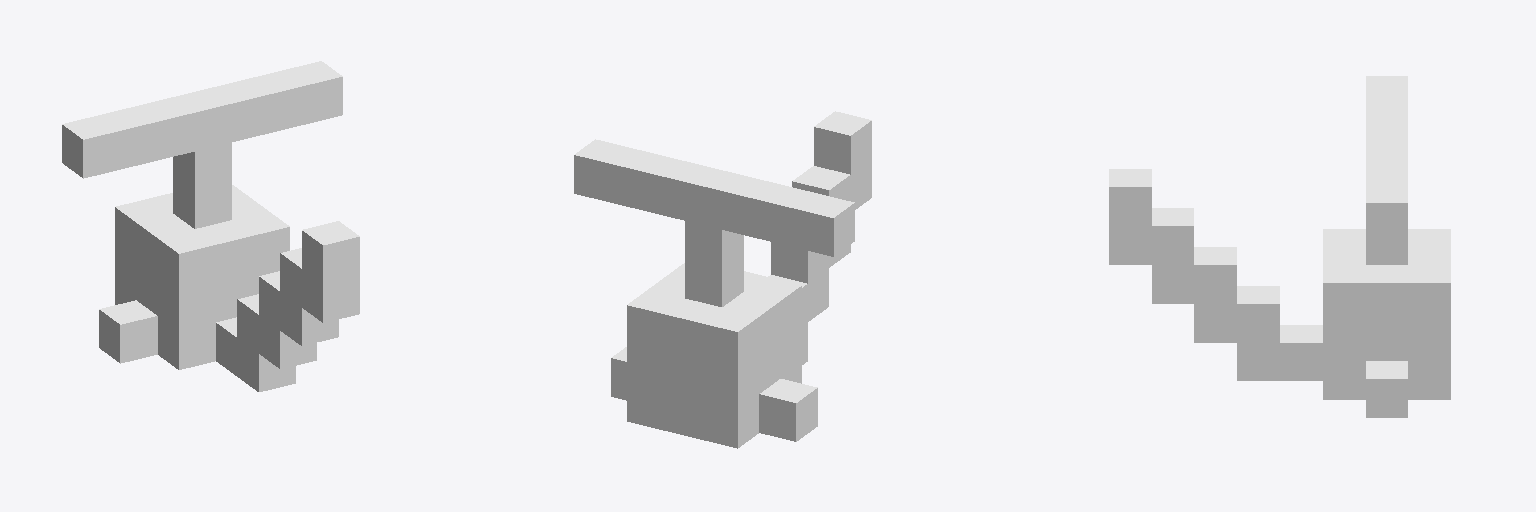
The model's file is Pump_0.obj.
The picture shows the model from 3 angles: view 1: azimuth 30°, elevation 25°; view 2: azimuth 150°, elevation 25°; view 3: azimuth 270°, elevation 25°; orthographic projection.
Parts seen in each view (by area): view 1: object 1; view 2: object 1; view 3: object 1.
Boxes of the visible parts, x1=… form: object 1: x1=62, y1=61, x2=359, y2=391; object 1: x1=574, y1=111, x2=871, y2=448; object 1: x1=1109, y1=76, x2=1450, y2=417.
Size of the model in its own units: 0.7 by 0.6 by 0.8.